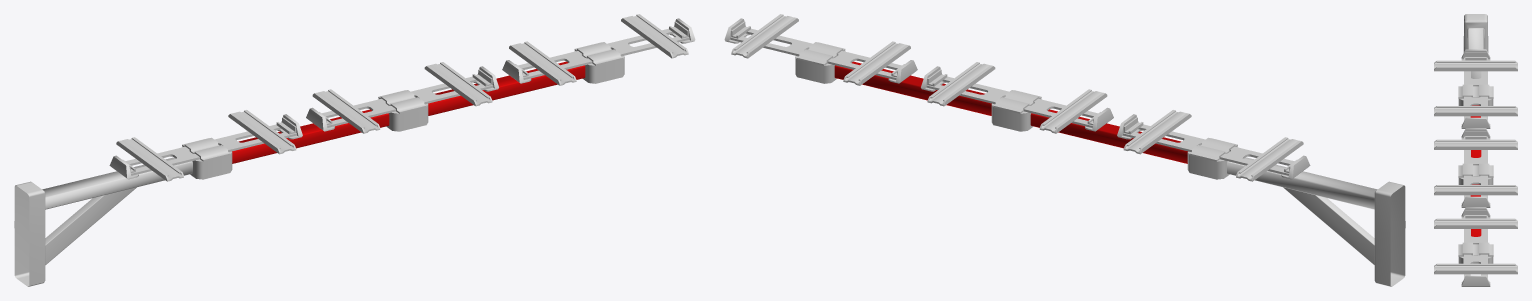
Rendered from WallConveyor-123.fbx.
3 views of the same model, side by side, from view 1: azimuth 30°, elevation 25°; view 2: azimuth 150°, elevation 25°; view 3: azimuth 270°, elevation 25° (orthographic). The views are drawn at different scales.
Parts seen in each view (by area): view 1: SM_CPWall-ABC_Pole, SM_CPWall-ABC, SM_CPWall-Strut_long, SM_CPWall-Strut_base; view 2: SM_CPWall-ABC_Pole, SM_CPWall-ABC, SM_CPWall-Strut_long, SM_CPWall-Strut_base; view 3: SM_CPWall-ABC_Pole, SM_CPWall-ABC, SM_CPWall-Strut_base, SM_CPWall-Strut_long.
Boxes of the visible parts, bbox=[...] form: SM_CPWall-ABC_Pole: bbox=[109, 14, 695, 181]; SM_CPWall-ABC: bbox=[14, 181, 136, 286]; SM_CPWall-Strut_long: bbox=[232, 61, 585, 163]; SM_CPWall-Strut_base: bbox=[42, 157, 192, 209]; SM_CPWall-ABC_Pole: bbox=[724, 14, 1310, 181]; SM_CPWall-ABC: bbox=[1283, 181, 1405, 286]; SM_CPWall-Strut_long: bbox=[834, 61, 1187, 163]; SM_CPWall-Strut_base: bbox=[1227, 157, 1377, 209]; SM_CPWall-ABC_Pole: bbox=[1434, 49, 1517, 286]; SM_CPWall-ABC: bbox=[1463, 14, 1488, 52]; SM_CPWall-Strut_base: bbox=[1468, 28, 1483, 78]; SM_CPWall-Strut_long: bbox=[1470, 105, 1481, 236].
Bounding box in the file's own units: 677 × 95.2 × 89.92.
